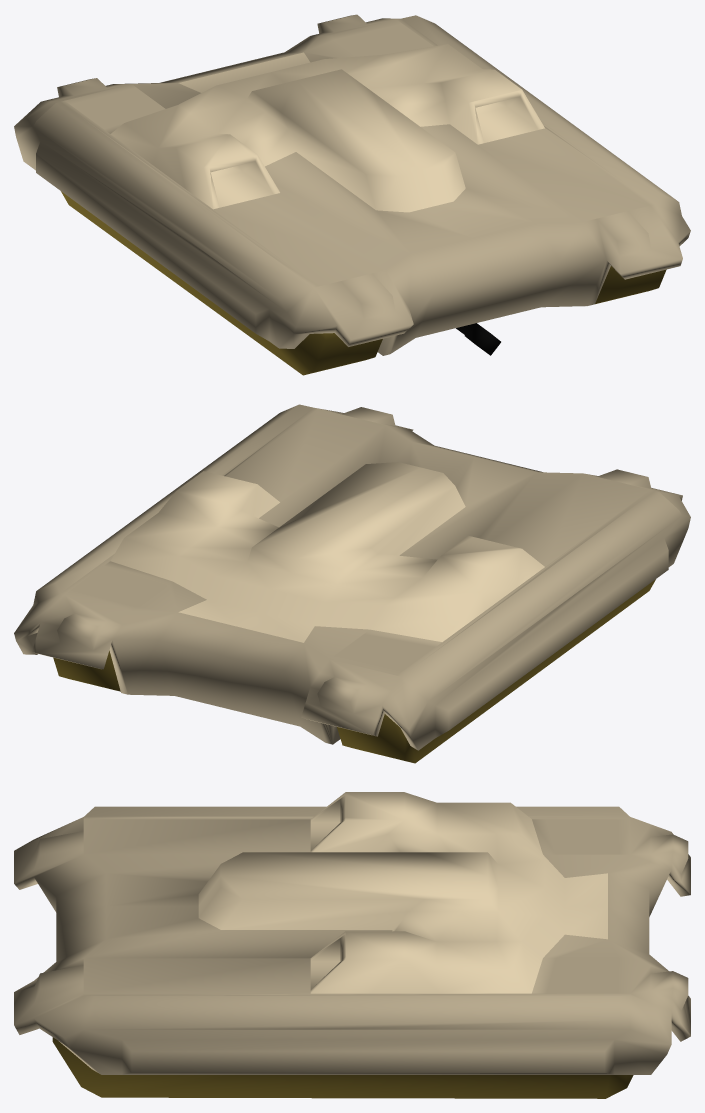
File: Tank-lores.obj
3 renders of one model, top to bottom at view 1: azimuth 30°, elevation 25°; view 2: azimuth 150°, elevation 25°; view 3: azimuth 270°, elevation 25°, orthographic. The views are drawn at different scales.
Parts seen in each view (by area): view 1: Body, Cannon; view 2: Body; view 3: Body.
Part boxes in pixels (x1,y1,x2,y2): Body: (14,14,690,375); Cannon: (456,323,500,355); Body: (14,404,690,763); Body: (14,792,690,1098).
Bounding box in the file's own units: 6.9 × 2.29 × 9.11.
